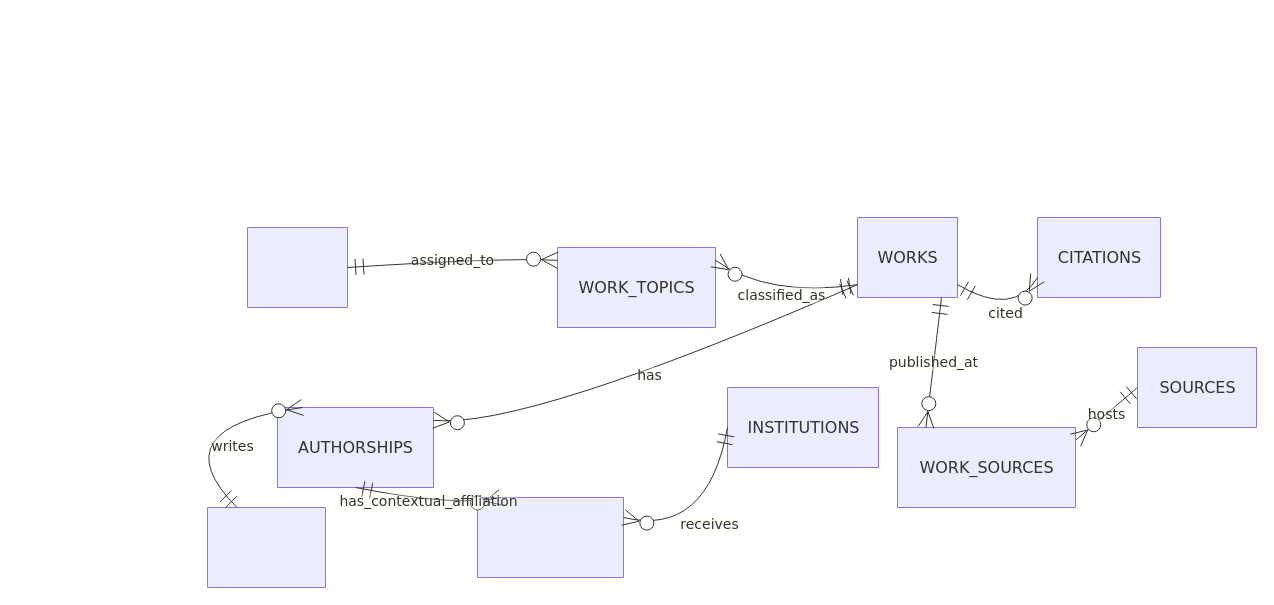
This 1274x605 diagram has some shape labels left out. The centre of each missing label's shape, as x and y in pixels:
"AFFILIATIONS" belongs at pixel 550 537.
"AUTHORS" belongs at pixel 266 547.
"TOPICS" belongs at pixel 297 267.
